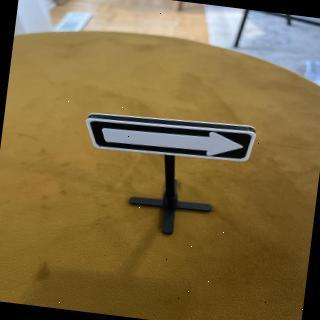sign_oneway_right: (82, 111, 259, 170)
